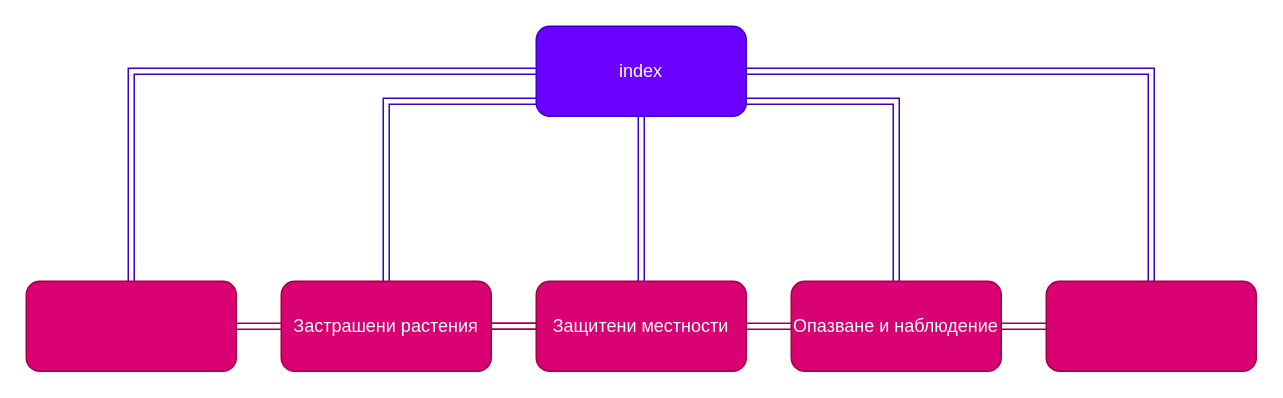
Image size: 1283x398. Some labels were removed from this diagram. The centre of each missing label's shape, as x and y in pixels:
"Замърсявания и незаконни действия" goes at (1150,325).
"Застрашени животни" goes at (130,325).
